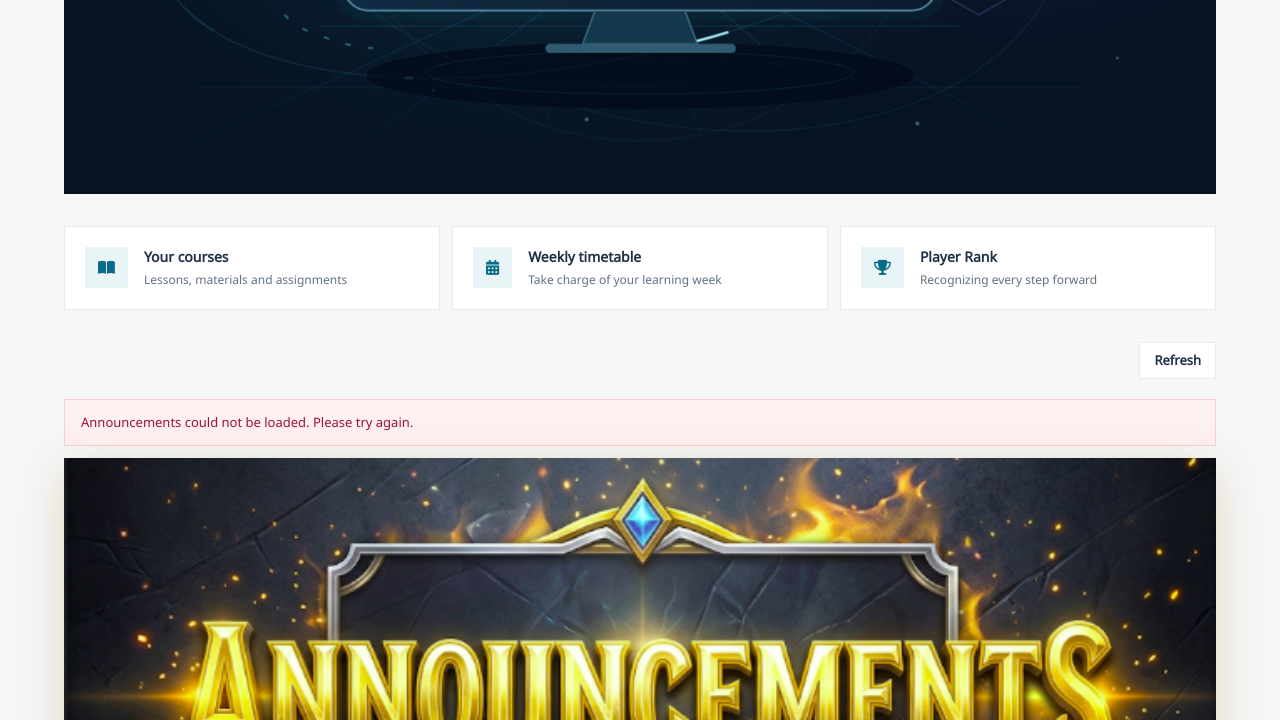
Test case: provides a retry when the public bulletin cannot load
The width and height of the screenshot is (1280, 720).
(page scrolled)
Expected: the message "Announcements could not be loaded. Please try again." is shown, [64,399,1216,446]
Click the button "Refresh": point(1178, 361) [1139,342,1216,379]
(page scrolled)
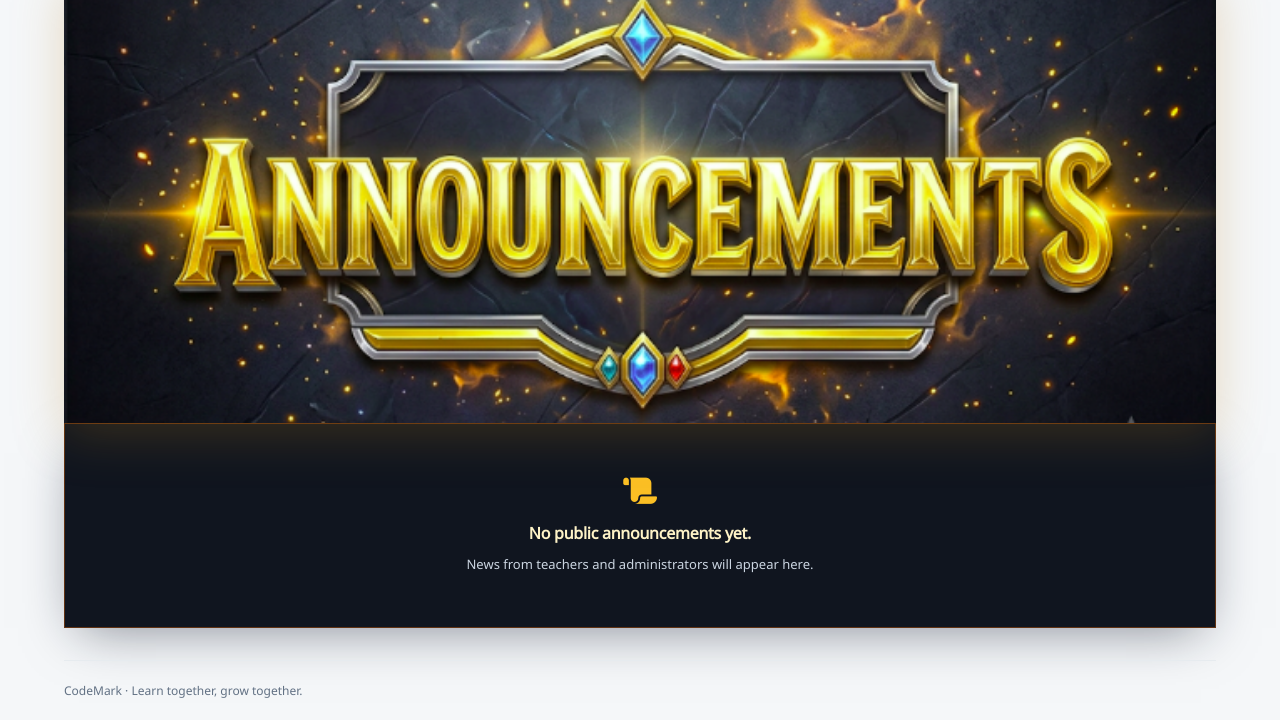
Now the heading "No public announcements yet." is shown, box [529,522,751,544]
